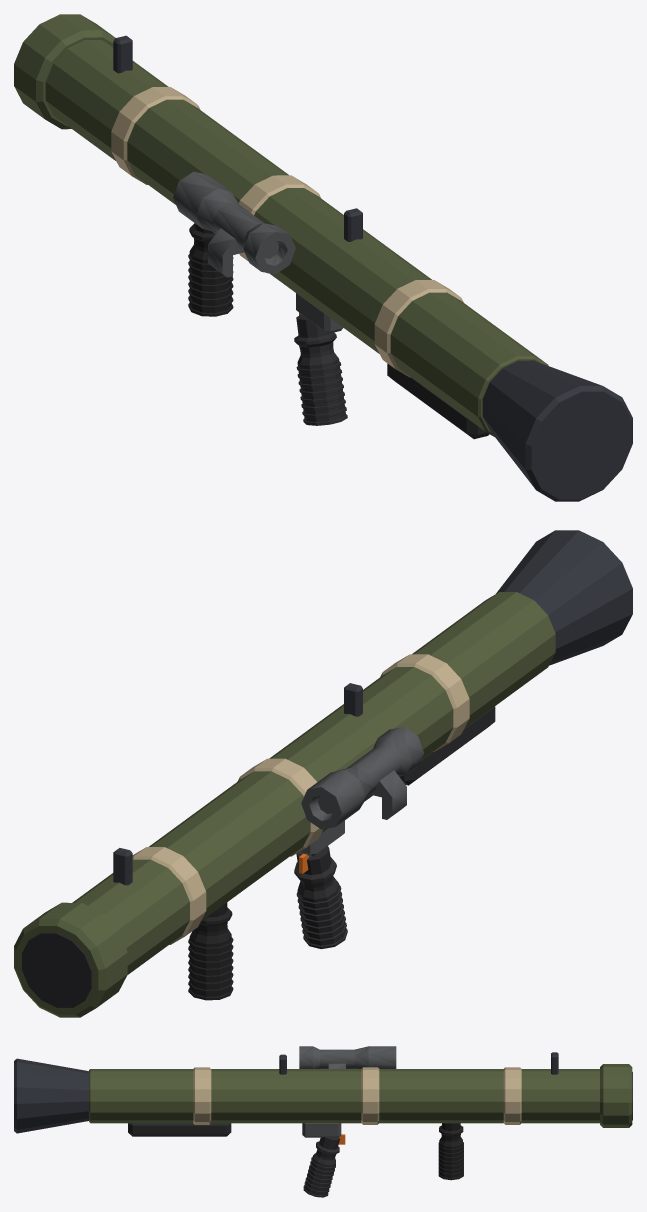
File: launcher.glb
3 views of the same model, one above another, from view 1: azimuth 30°, elevation 25°; view 2: azimuth 150°, elevation 25°; view 3: azimuth 270°, elevation 25° (orthographic). The views are drawn at different scales.
Visible parts, largest first — view 1: launcher; view 2: launcher; view 3: launcher.
Part boxes in pixels (<box>): launcher: <box>14,14,632,501</box>; launcher: <box>14,530,632,1017</box>; launcher: <box>14,1046,632,1197</box>.
Bounding box in the file's own units: 0.1524 × 0.2379 × 0.95.
